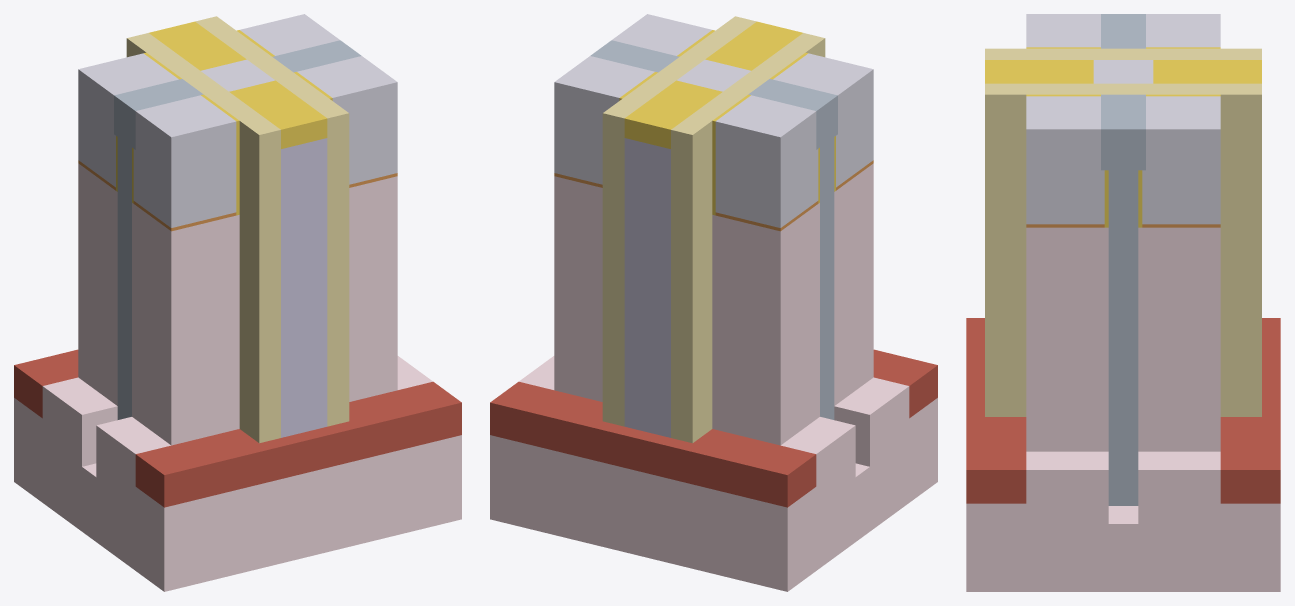
The picture shows the model from 3 angles, left to right: view 1: azimuth 30°, elevation 25°; view 2: azimuth 150°, elevation 25°; view 3: azimuth 270°, elevation 25°; orthographic projection. The views are drawn at different scales.
Parts seen in each view (by area): view 1: substrate, epi_n_source, sti, spacer_n_source, mo_n, ni_n_source, epi_n_drain, epi_p_source, spacer_n_drain, ni_n_drain, gatecap, ni_p_source (+9 smaller); view 2: substrate, epi_p_source, sti, spacer_p_source, mo_p, ni_p_source, epi_p_drain, epi_n_source, spacer_p_drain, ni_p_drain, gatecap, ni_n_source (+9 smaller); view 3: substrate, epi_n_drain, epi_p_drain, spacer_n_drain, spacer_p_drain, sti, wall, ni_n_drain, ni_p_drain, gatecap, cpw_drain, ni_n_source (+8 smaller).
Part boxes in pixels (<box>): substrate: <box>14,356,461,591</box>; epi_n_source: <box>132,203,239,445</box>; sti: <box>14,349,461,507</box>; spacer_n_source: <box>200,86,280,443</box>; mo_n: <box>281,138,327,437</box>; ni_n_source: <box>133,95,236,227</box>; epi_n_drain: <box>349,176,397,401</box>; epi_p_source: <box>78,163,117,405</box>; spacer_n_drain: <box>268,70,349,426</box>; ni_n_drain: <box>297,56,397,184</box>; gatecap: <box>149,21,327,148</box>; ni_p_source: <box>78,53,178,187</box>; substrate: <box>490,356,937,591</box>; epi_p_source: <box>712,203,819,445</box>; sti: <box>490,349,937,507</box>; spacer_p_source: <box>671,86,751,443</box>; mo_p: <box>624,138,670,437</box>; ni_p_source: <box>715,95,818,227</box>; epi_p_drain: <box>554,176,602,401</box>; epi_n_source: <box>834,163,873,405</box>; spacer_p_drain: <box>602,70,683,426</box>; ni_p_drain: <box>554,56,654,184</box>; gatecap: <box>624,21,802,148</box>; ni_n_source: <box>773,53,873,187</box>; substrate: <box>966,451,1280,591</box>; epi_n_drain: <box>1026,227,1108,451</box>; epi_p_drain: <box>1138,227,1220,451</box>; spacer_n_drain: <box>985,83,1108,416</box>; spacer_p_drain: <box>1138,83,1261,416</box>; sti: <box>966,318,1280,503</box>; wall: <box>1108,170,1138,505</box>; ni_n_drain: <box>1026,96,1104,224</box>; ni_p_drain: <box>1142,96,1220,224</box>; gatecap: <box>985,60,1261,83</box>; cpw_drain: <box>1101,94,1145,170</box>; ni_n_source: <box>1026,14,1100,47</box>.
Bounding box in the file's own units: 96 × 131 × 84.
